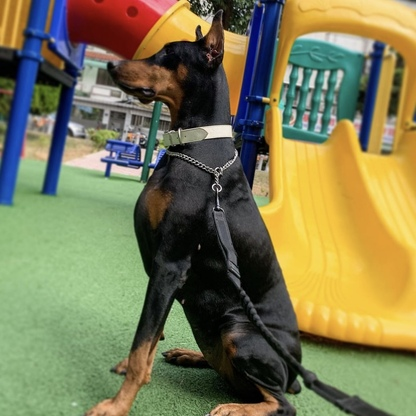doberman: (99, 15, 363, 414)
